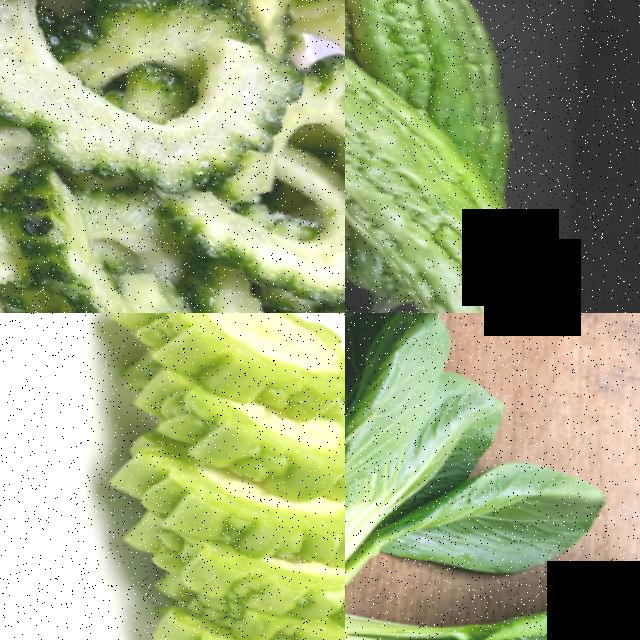bitter gourd: (64, 443, 345, 640), (345, 148, 612, 313), (99, 313, 345, 405), (345, 0, 513, 70)
bok choy: (345, 313, 577, 618), (345, 569, 640, 640)
